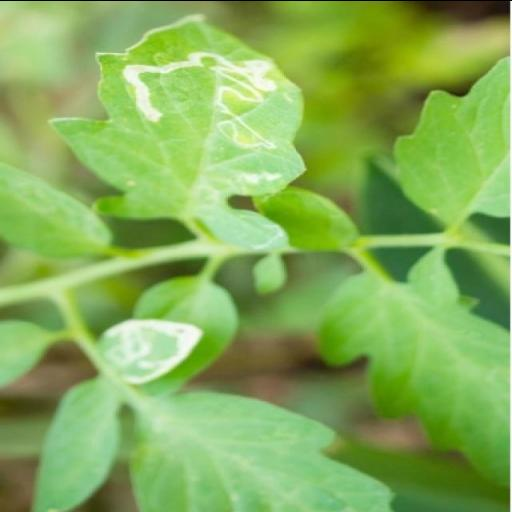Leaf Miner: (48, 14, 310, 250), (92, 316, 208, 382)
